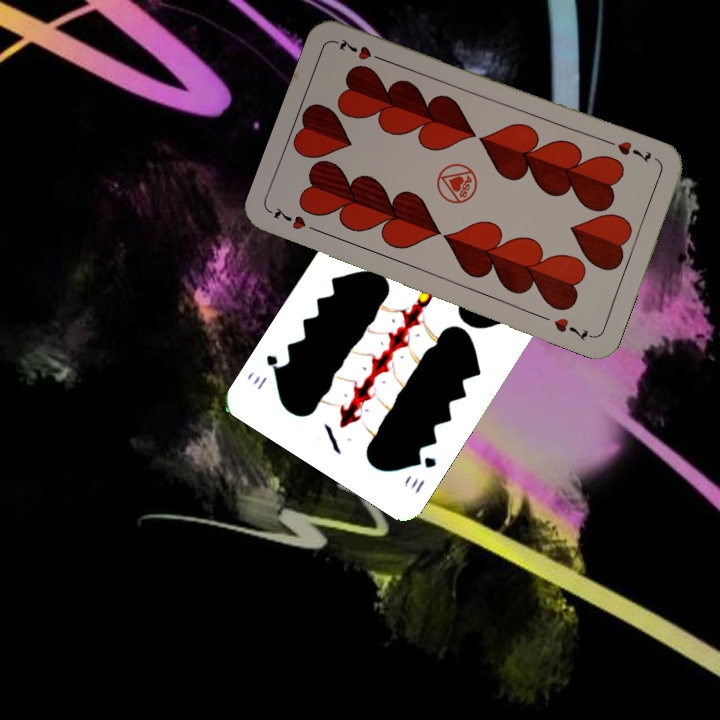G10: (406, 449, 439, 497)
H7: (269, 203, 324, 236), (613, 137, 654, 166)
